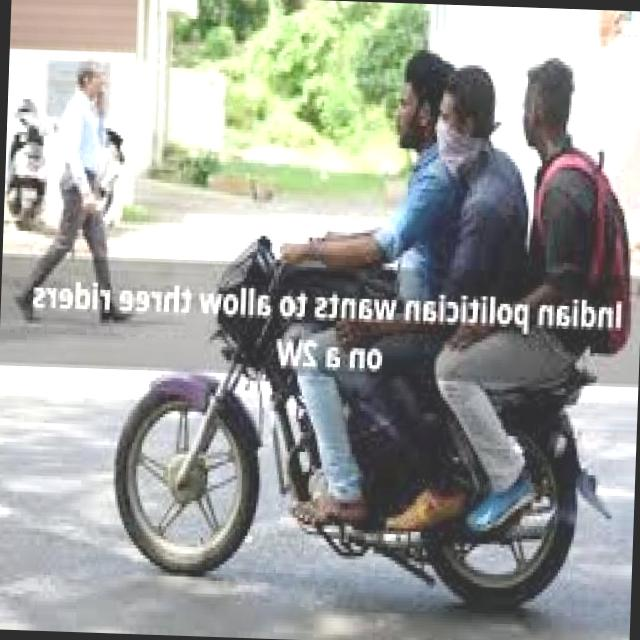motorcycle: (101, 219, 620, 622)
person: (480, 45, 638, 388), (329, 43, 451, 374), (410, 50, 535, 332)
rider_region: (107, 28, 640, 618)
